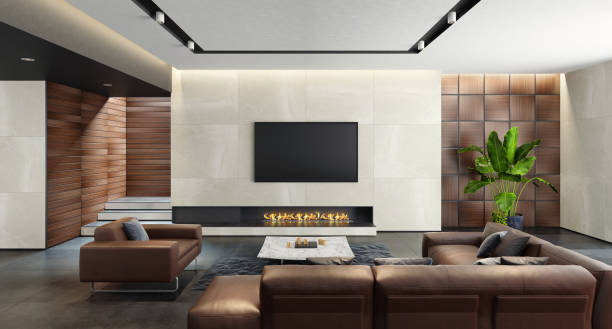TV: (250, 119, 360, 184)
chair: (77, 215, 203, 296)
large plant: (457, 126, 558, 230)
sofa: (184, 222, 612, 329)
table: (255, 234, 356, 264)
